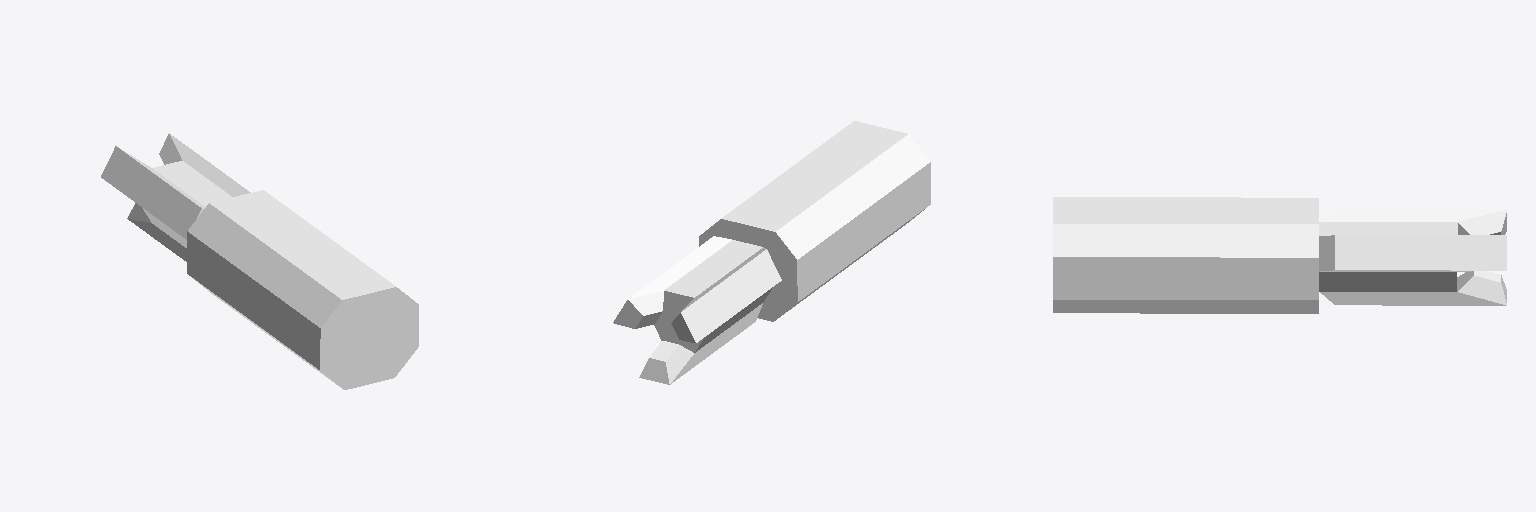
File: Gun.obj
The picture shows the model from 3 angles: view 1: azimuth 30°, elevation 25°; view 2: azimuth 150°, elevation 25°; view 3: azimuth 270°, elevation 25°; orthographic projection.
Parts seen in each view (by area): view 1: cylinder2_sep46; view 2: cylinder2_sep46; view 3: cylinder2_sep46.
Part boxes in pixels (bbox=[...]): cylinder2_sep46: bbox=[101, 133, 418, 389]; cylinder2_sep46: bbox=[613, 121, 930, 384]; cylinder2_sep46: bbox=[1053, 197, 1506, 313].
Bounding box in the file's own units: 5.73 × 5.07 × 22.91.